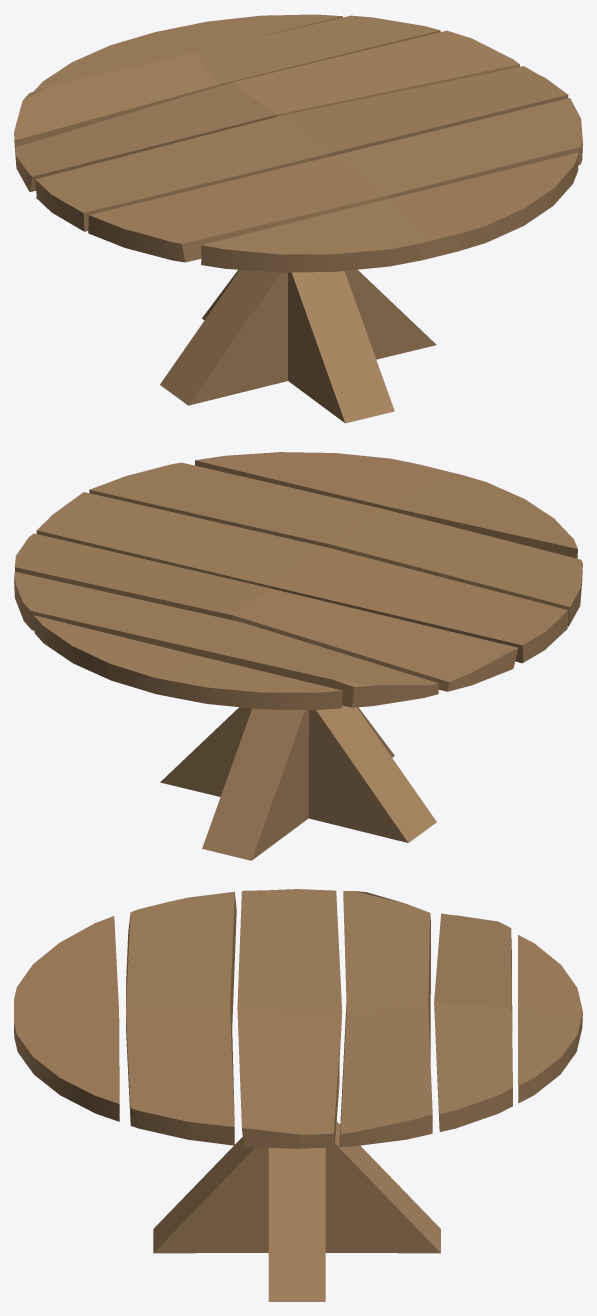
Rendered from Roundtable.fbx.
3 renders of one model, top to bottom at view 1: azimuth 30°, elevation 25°; view 2: azimuth 150°, elevation 25°; view 3: azimuth 270°, elevation 25°, orthographic.
Parts seen in each view (by area): view 1: Roundtable; view 2: Roundtable; view 3: Roundtable.
Part boxes in pixels (box(x1,y1,x2,y2)): Roundtable: box(14, 14, 582, 423); Roundtable: box(14, 452, 582, 860); Roundtable: box(14, 889, 582, 1301).
Size of the model in its own units: 80.8 by 36.78 by 80.42.
